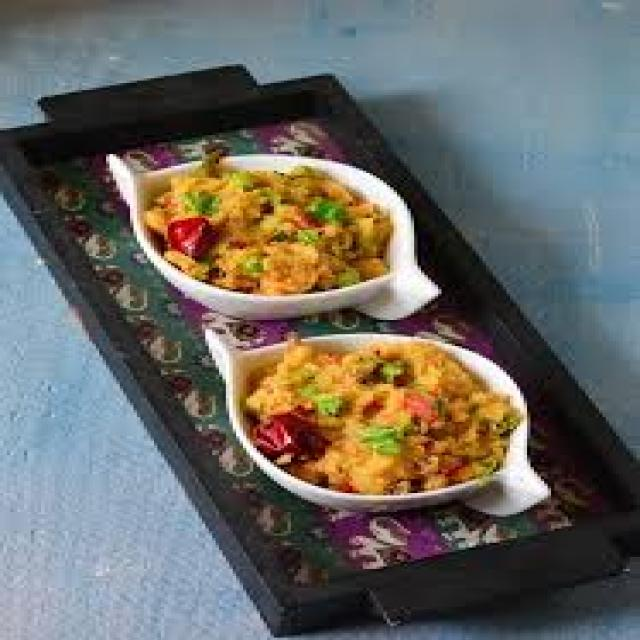UPMA: (249, 338, 510, 488), (147, 171, 386, 284)
